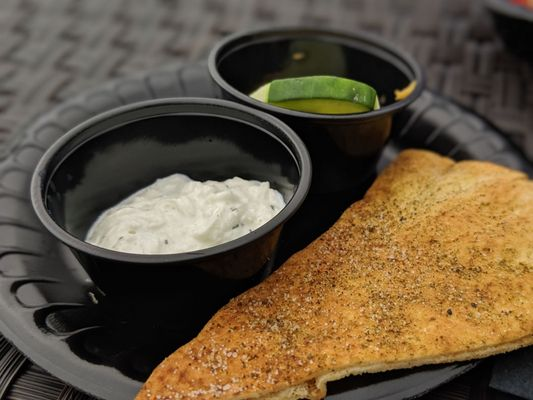soup: (135, 143, 533, 400)
sushi: (17, 93, 313, 340), (205, 26, 425, 160)
